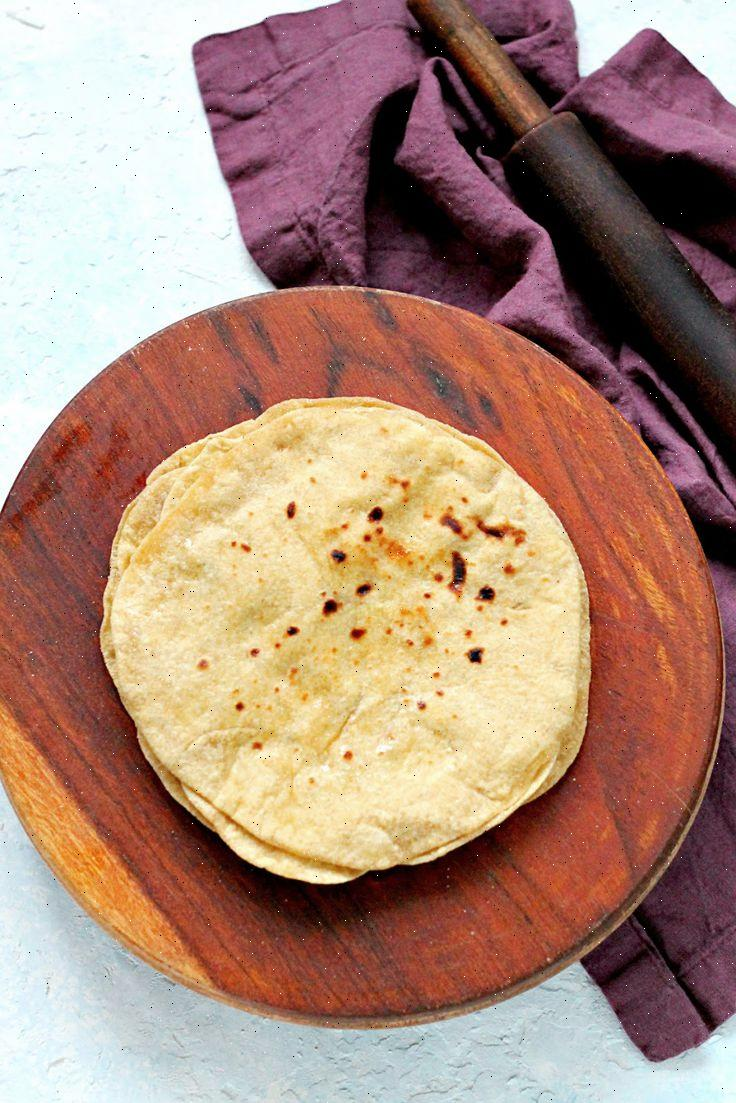roti phulka: (98, 392, 610, 889)
